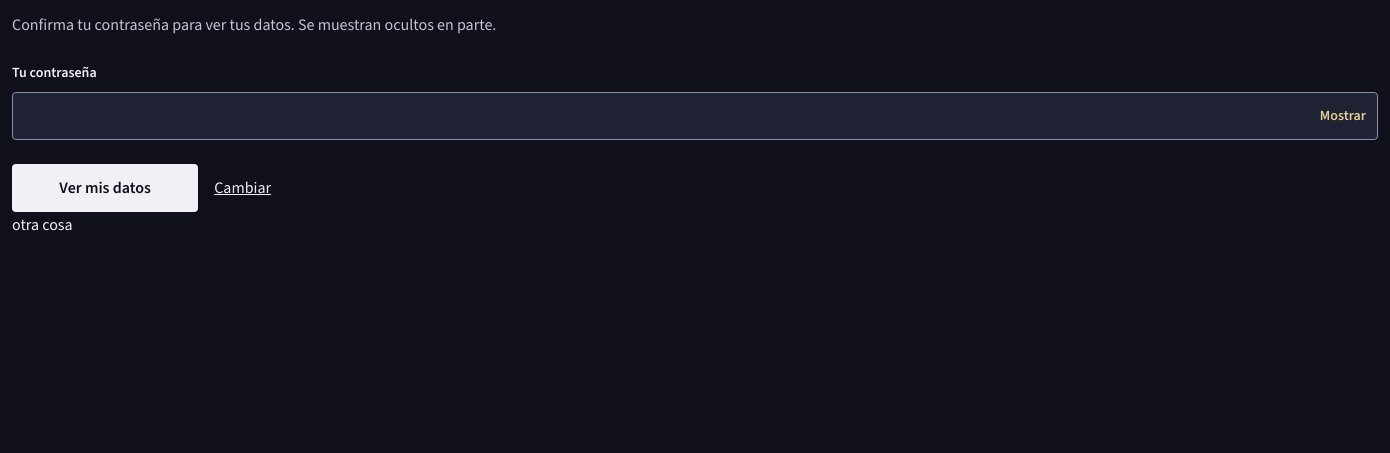
Test case: ver lo guardado › a quien se fue a otra cosa mientras esperaba no se le quita el foco
This screenshot has width=1390, height=453.
Type "la-de-ella" into the password field labelled "Tu contraseña".
click(695, 116); type("la-de-ella")  # box [12,92,1378,140]
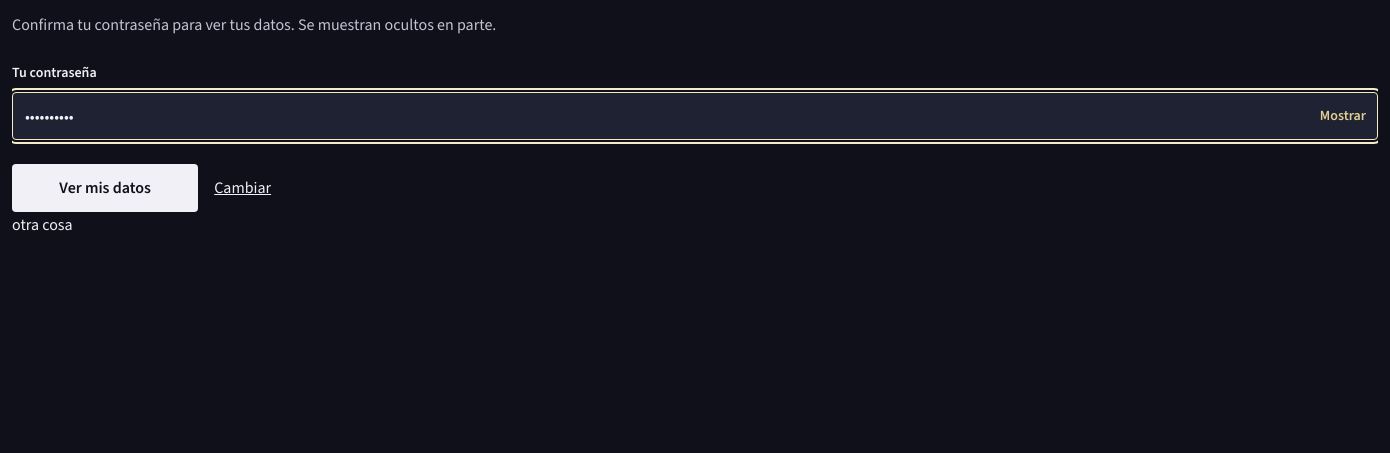
Click the button "Ver mis datos".
click(105, 188)  # box [12,164,198,212]
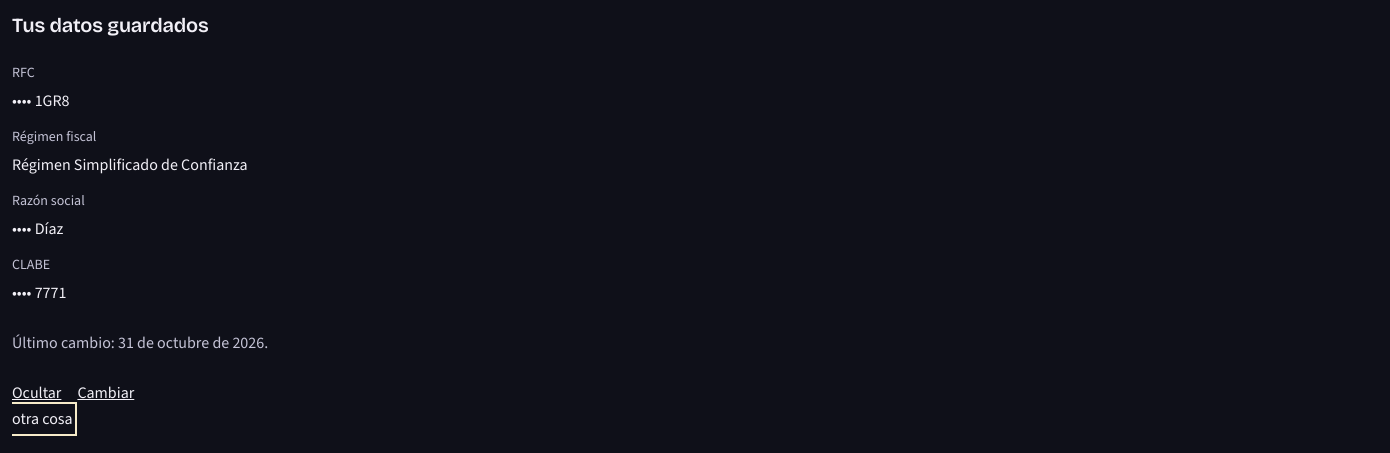
Check: the heading "Tus datos guardados" is shown, box [12,13,208,37]
